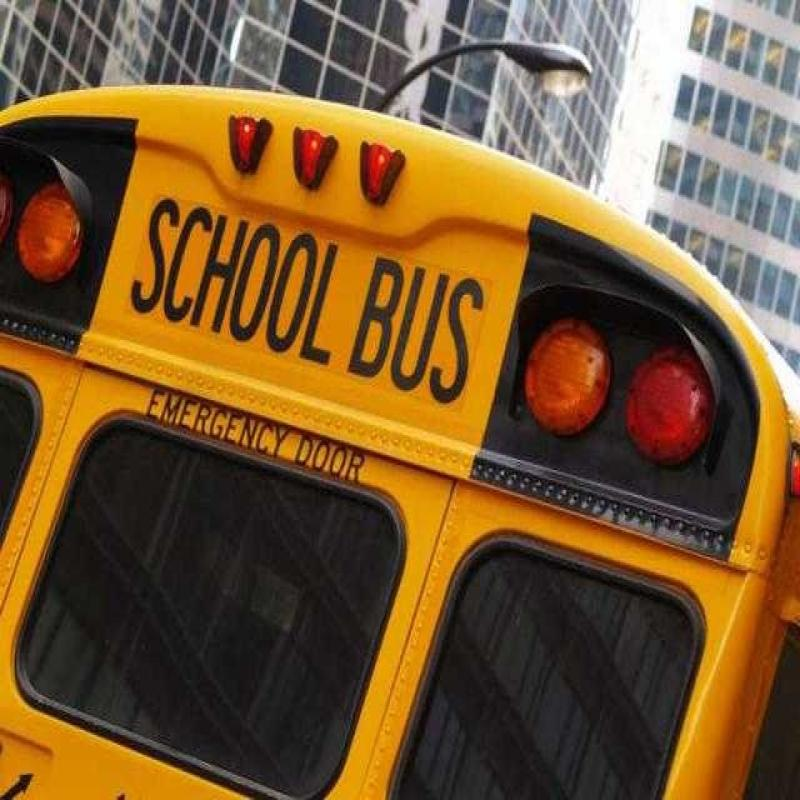bus: (17, 38, 790, 800)
